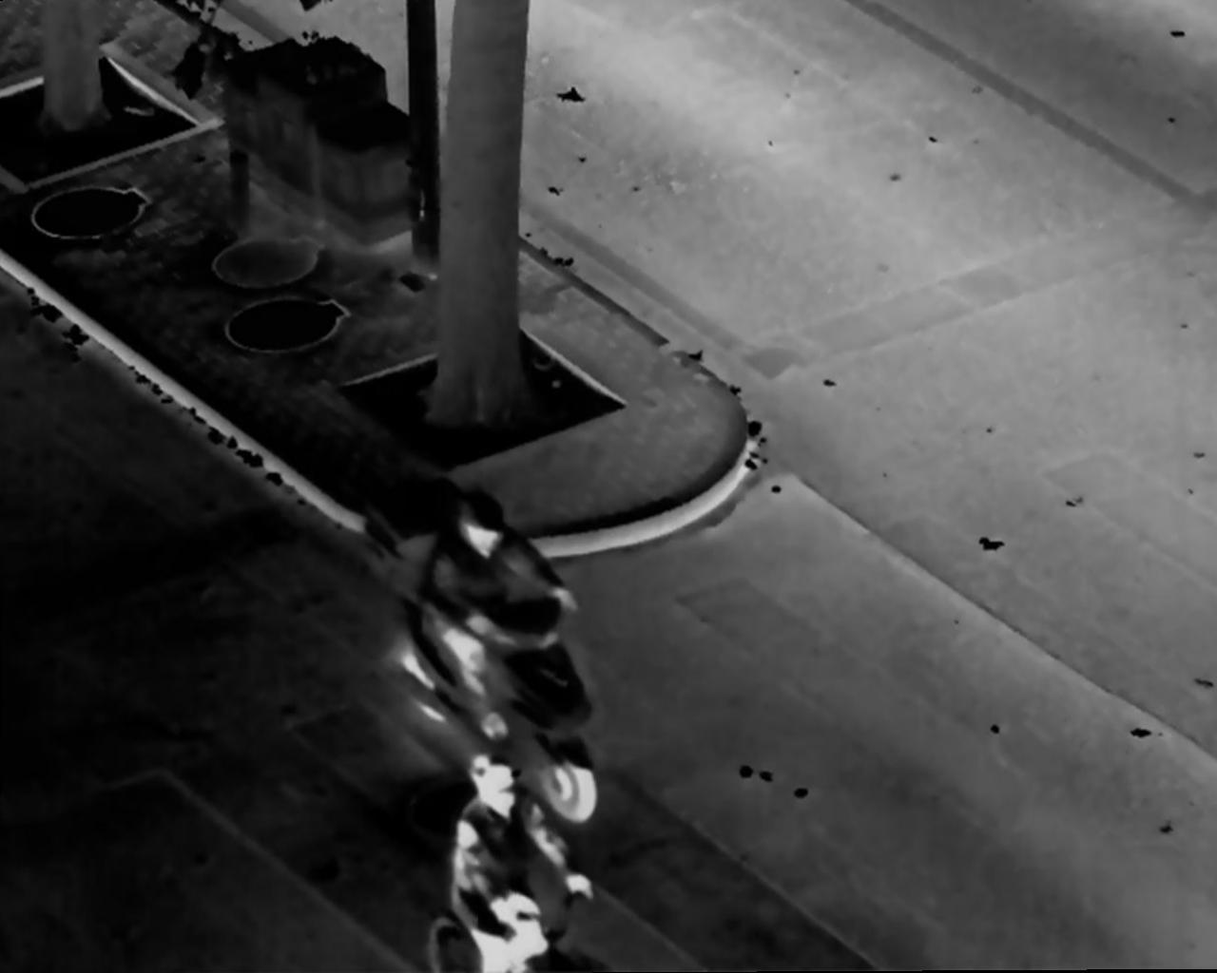person: (439, 749, 587, 973), (432, 486, 531, 765)
